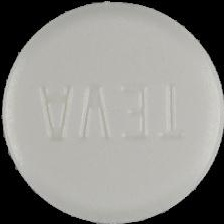67046-221: (0, 0, 224, 224)
